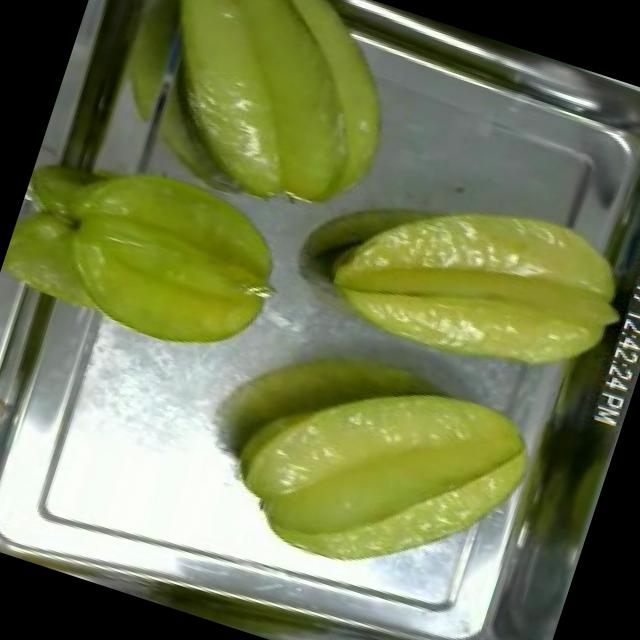fruit: (198, 318, 556, 622), (295, 145, 640, 415), (107, 0, 435, 247), (0, 120, 310, 380), (0, 375, 24, 543)
